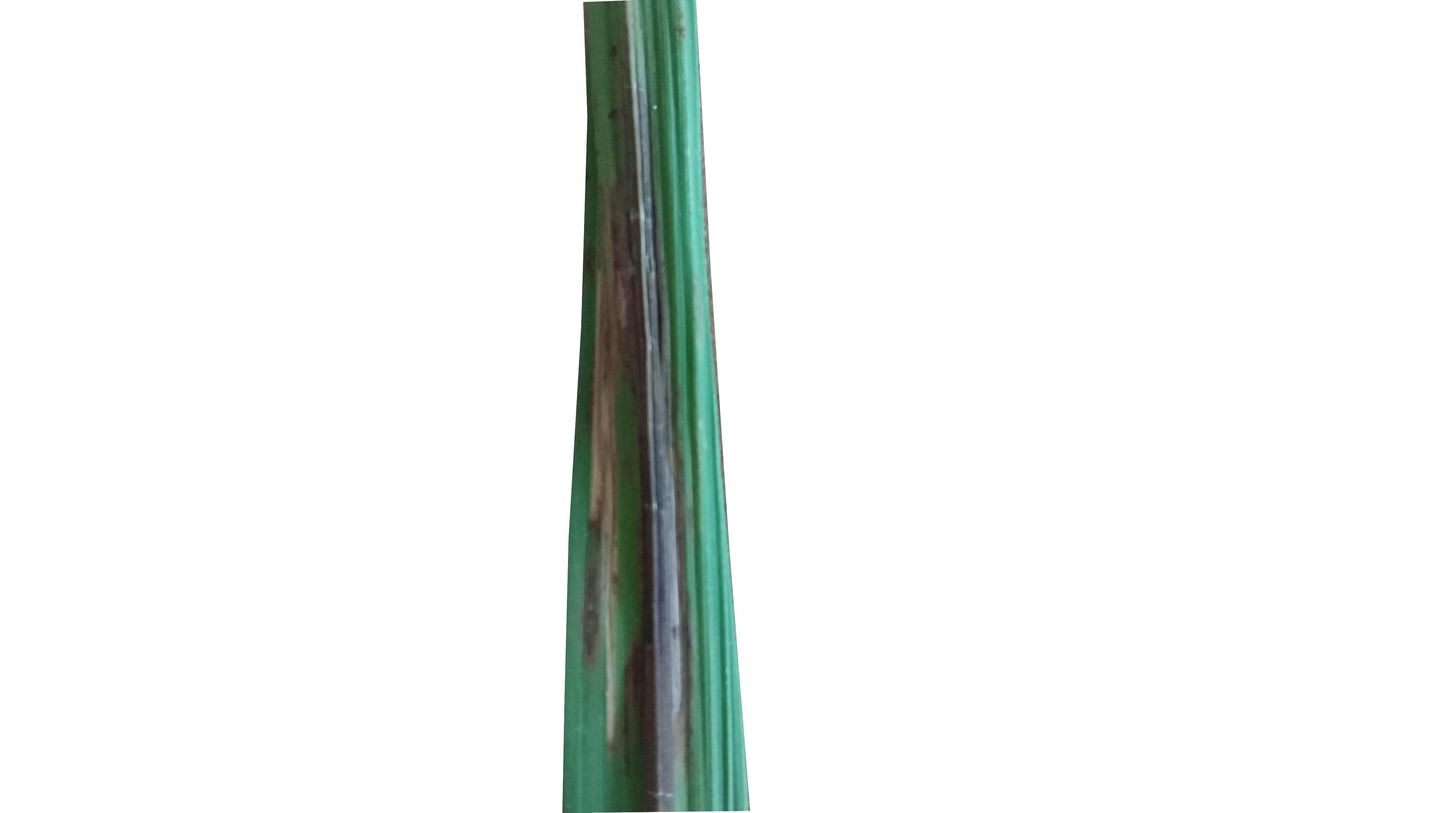Blight: (577, 0, 732, 813)
